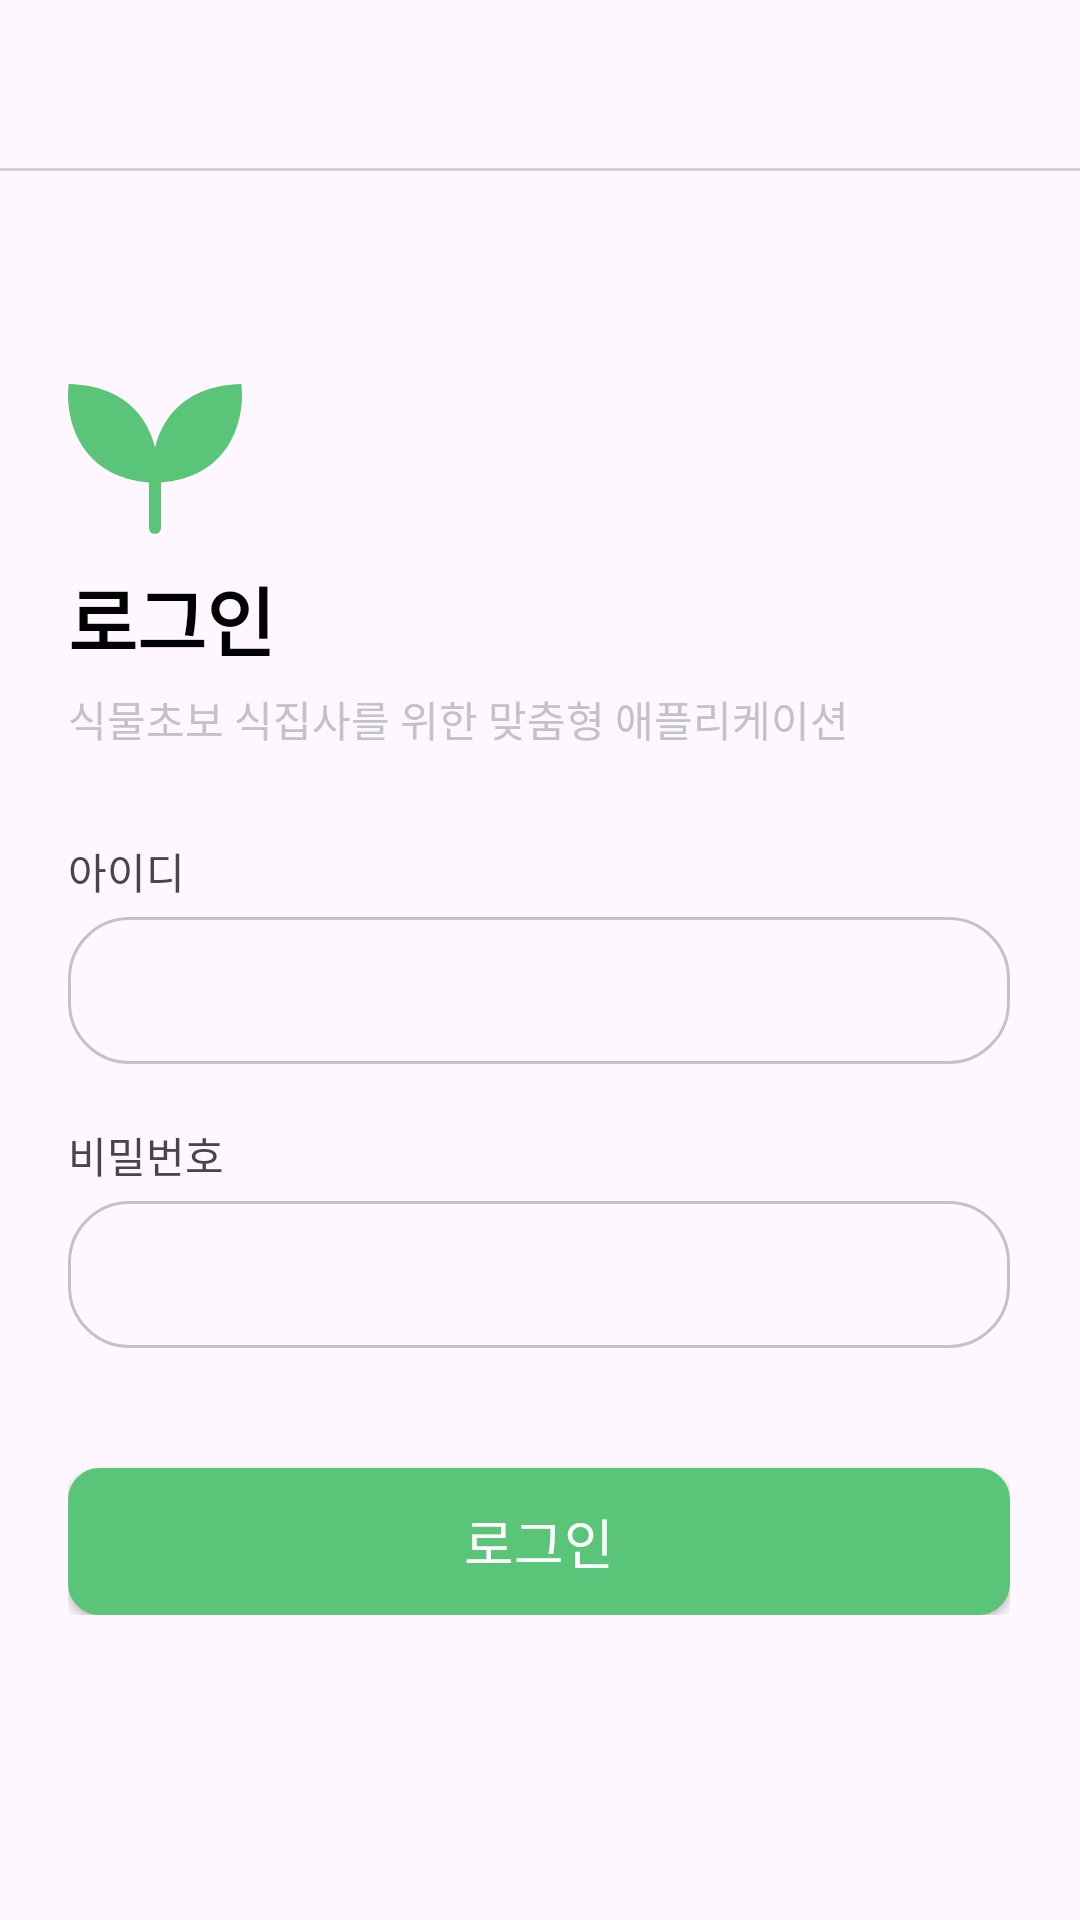

Icon click points for this 1080w x 1920h phone screenshot, format (x,y):
login sprout: (155,459)
